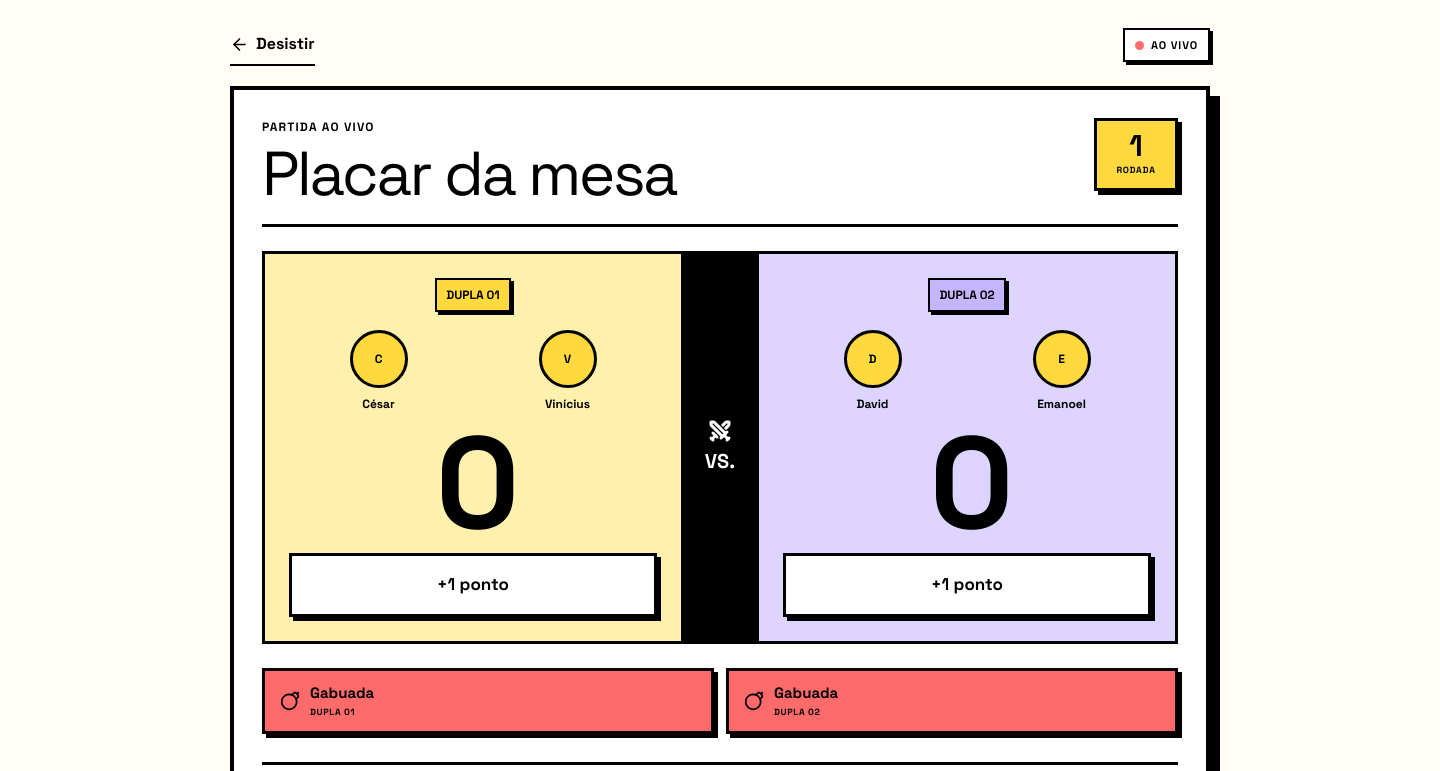
Scenario: LiveGame › fecha o modal de desistência ao pressionar Escape
This screenshot has width=1440, height=771.
Click the button "+1 ponto" below "César". click: (473, 585)
box: [289,553,657,617]
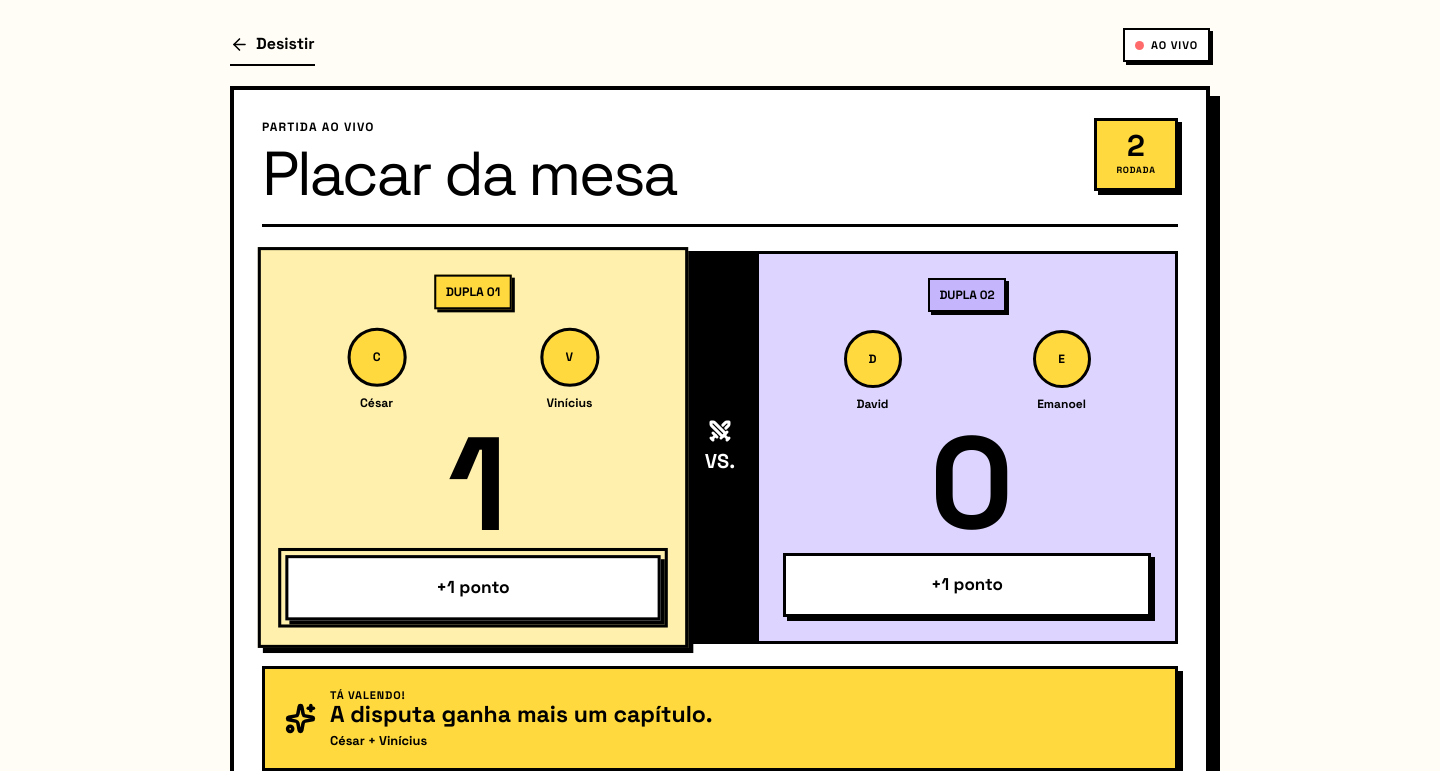
Click the button "Desistir". click: (272, 45)
box: [230,24,315,66]
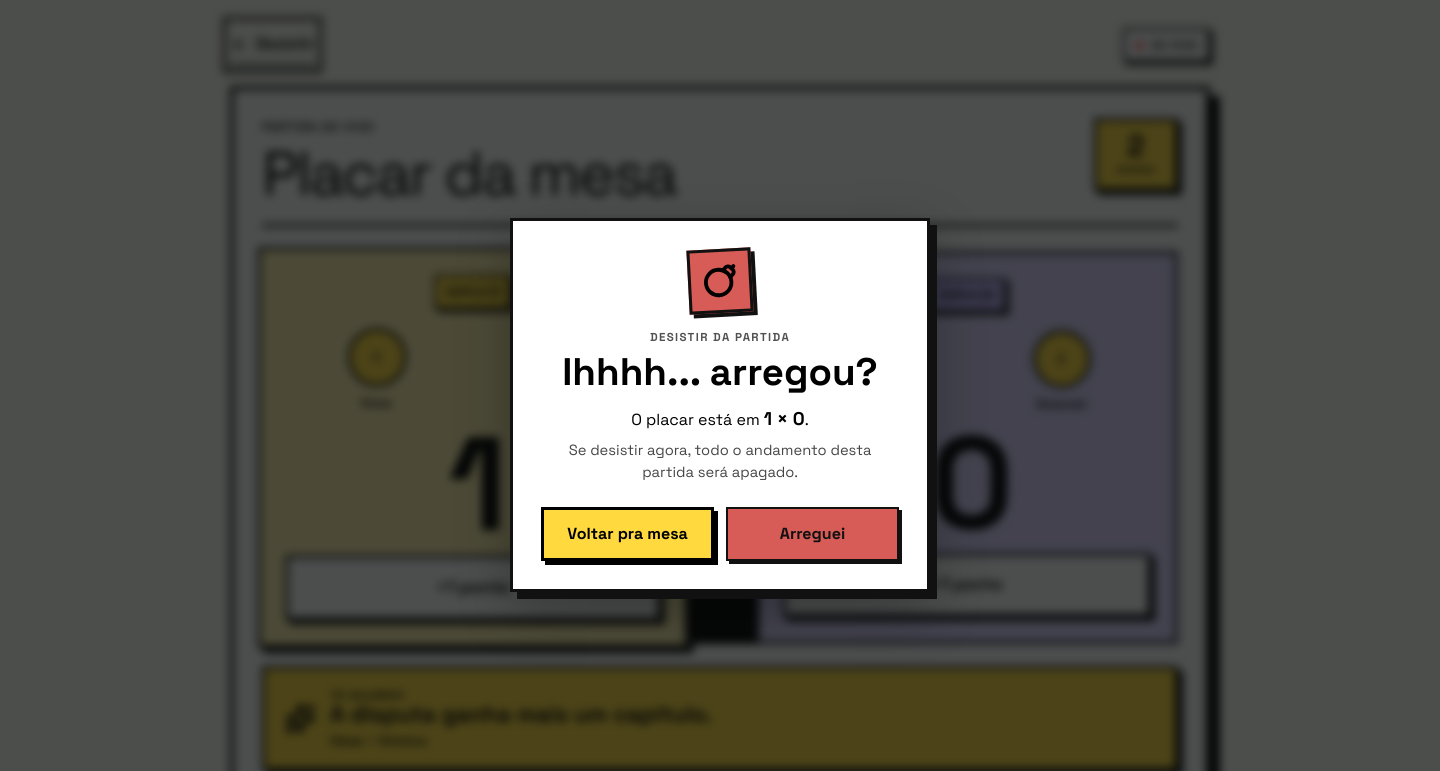
Expected: the dialog is shown, [510,218,930,592]
Press Escape
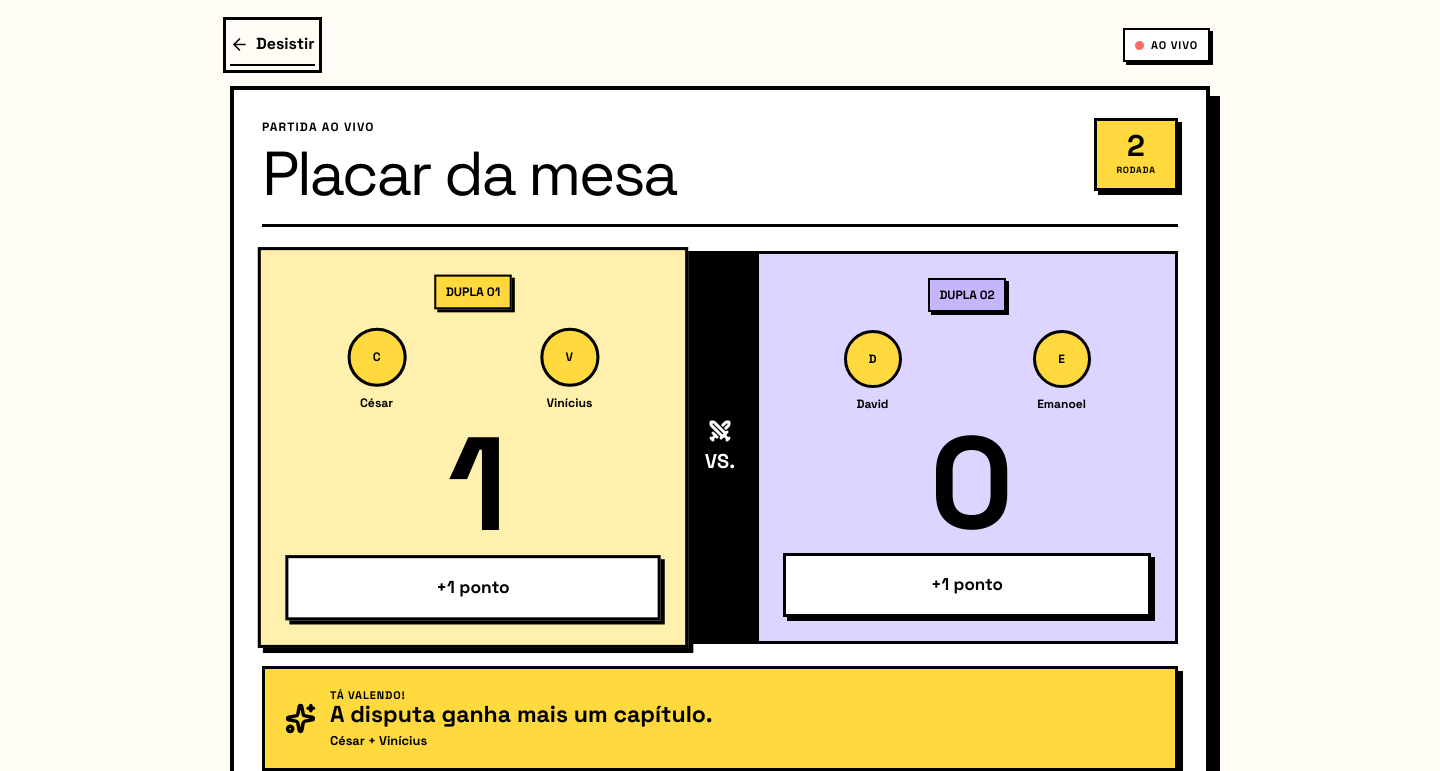
Expected: the dialog is gone
